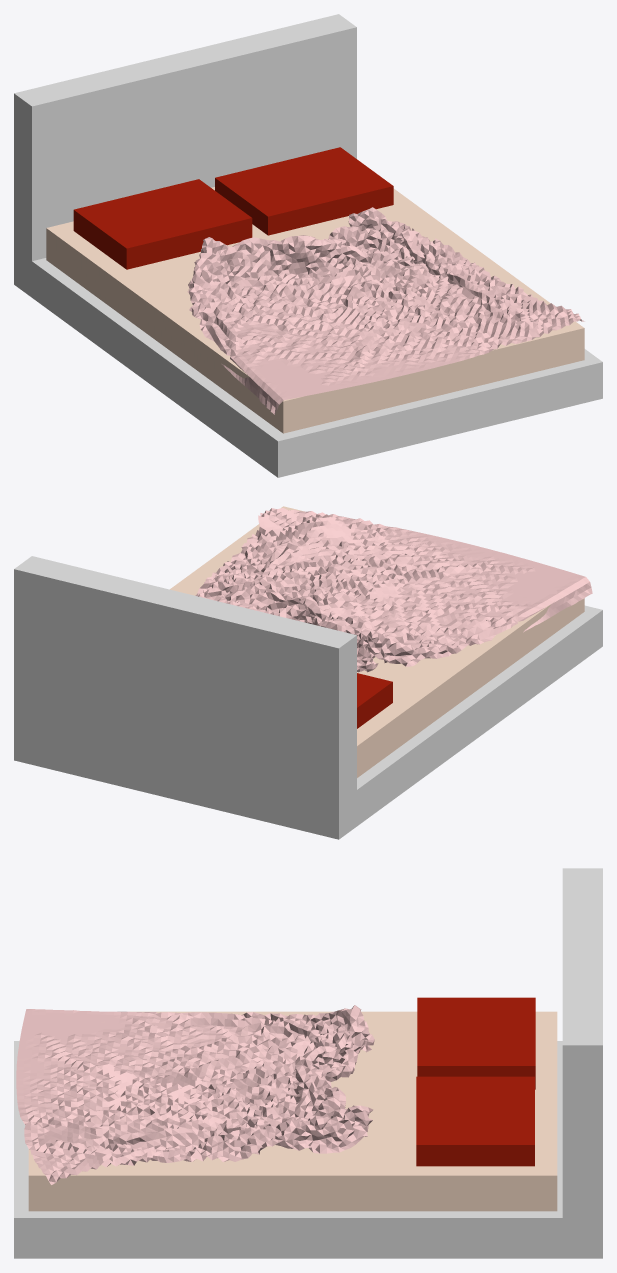
File: hackfest_bed.dae
The picture shows the model from 3 angles, top to bottom: view 1: azimuth 30°, elevation 25°; view 2: azimuth 150°, elevation 25°; view 3: azimuth 270°, elevation 25°; orthographic projection. The views are drawn at different scales.
Parts seen in each view (by area): view 1: BedFrame, Sheet, BedMattres, Pillow, Pillow2; view 2: BedFrame, Sheet, BedMattres, Pillow; view 3: Sheet, BedFrame, BedMattres, Pillow2, Pillow.
Part boxes in pixels (x1,y1,x2,y2): BedFrame: [14, 14, 602, 477]; Sheet: [187, 207, 584, 414]; BedMattres: [46, 187, 584, 433]; Pillow: [73, 179, 252, 269]; Pillow2: [215, 147, 393, 235]; BedFrame: [14, 556, 602, 839]; Sheet: [195, 508, 592, 672]; BedMattres: [170, 506, 584, 777]; Pillow: [357, 673, 392, 728]; Sheet: [16, 1005, 374, 1184]; BedFrame: [14, 868, 602, 1258]; BedMattres: [28, 1011, 557, 1211]; Pillow2: [416, 1076, 534, 1166]; Pillow: [417, 997, 535, 1089].
Size of the model in its own units: 1.92 by 2.7 by 1.08.
